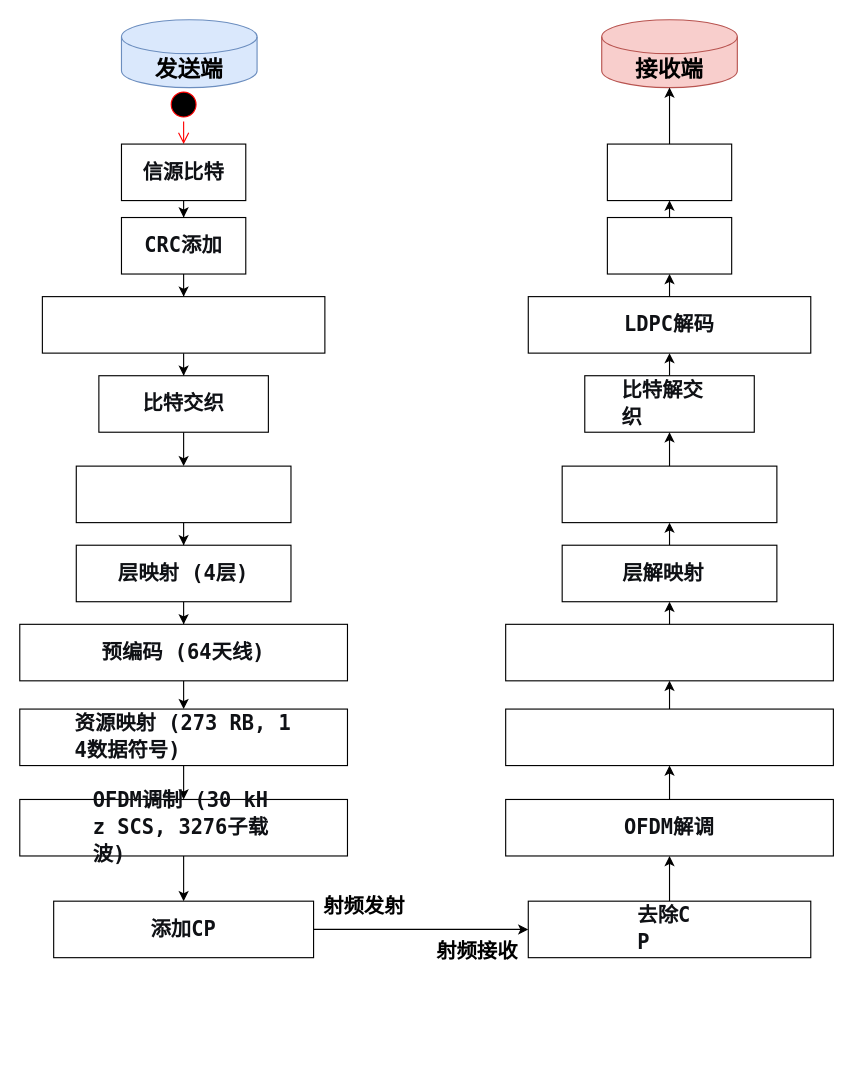
The diagram is 853 pixels wide and 1085 high, and some of its shapes have lost their labels. The box of each missing label's shape, as (x1, y1, x2, y2) in pixels:
64-QAM调制: (75, 465, 291, 523)
CRC校验: (606, 216, 732, 274)
LDPC编码 (码率1/2): (41, 295, 325, 353)
MMSE均衡: (505, 623, 833, 681)
信道估计 (基于DMRS): (505, 708, 833, 766)
恢复信源比特: (606, 143, 732, 201)
软解调 (LLR计算): (561, 465, 777, 523)
